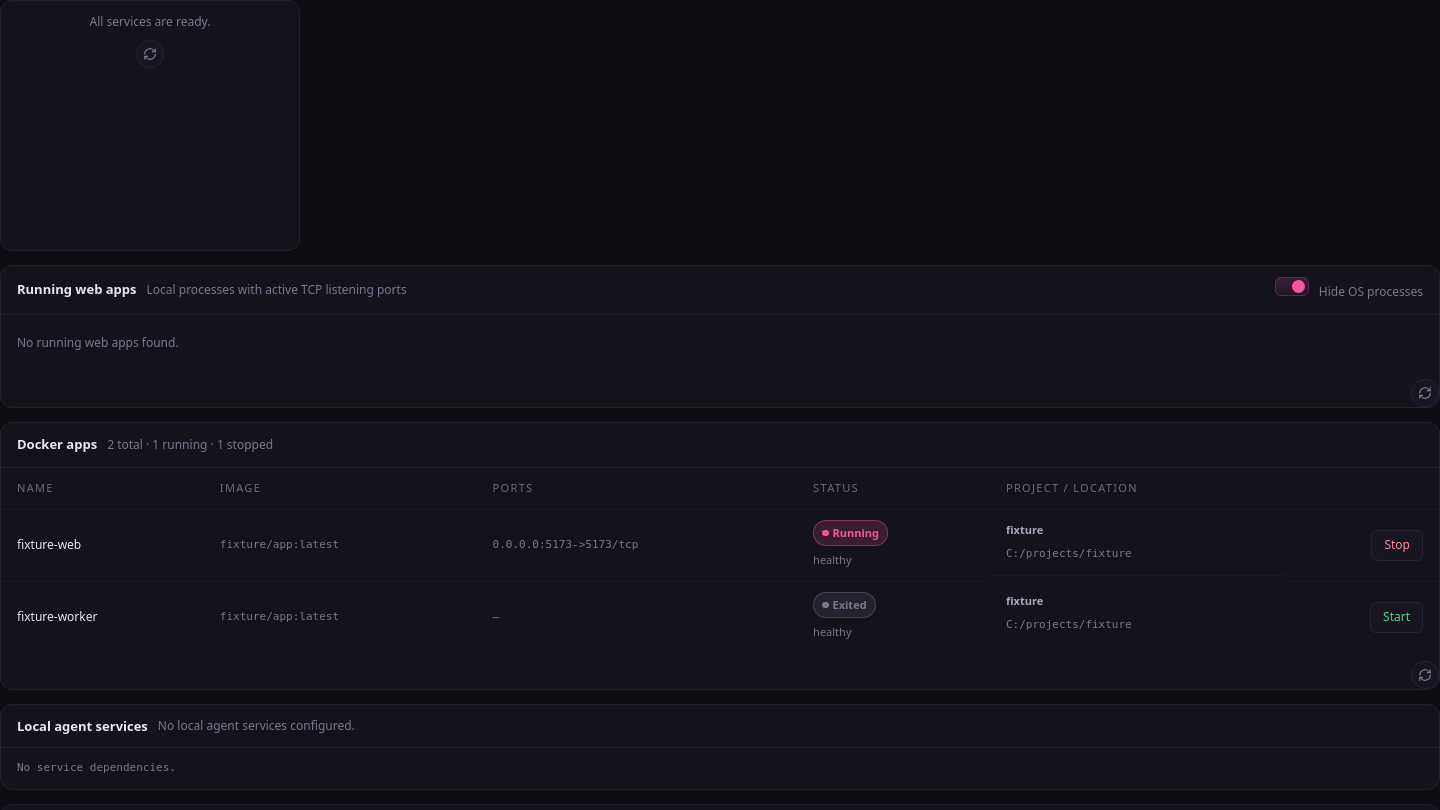
Test case: MCP and service workflows › shows Docker containers in every state and prepares the matching lifecycle action
Expected: the text "fixture-web" is shown, [1,510,204,581]
Expected: the text "fixture-worker" is shown, [1,581,204,653]
Click the button with aria-label "Stop Docker container fixture-web" at (1397, 545), box [1371,530,1423,561]
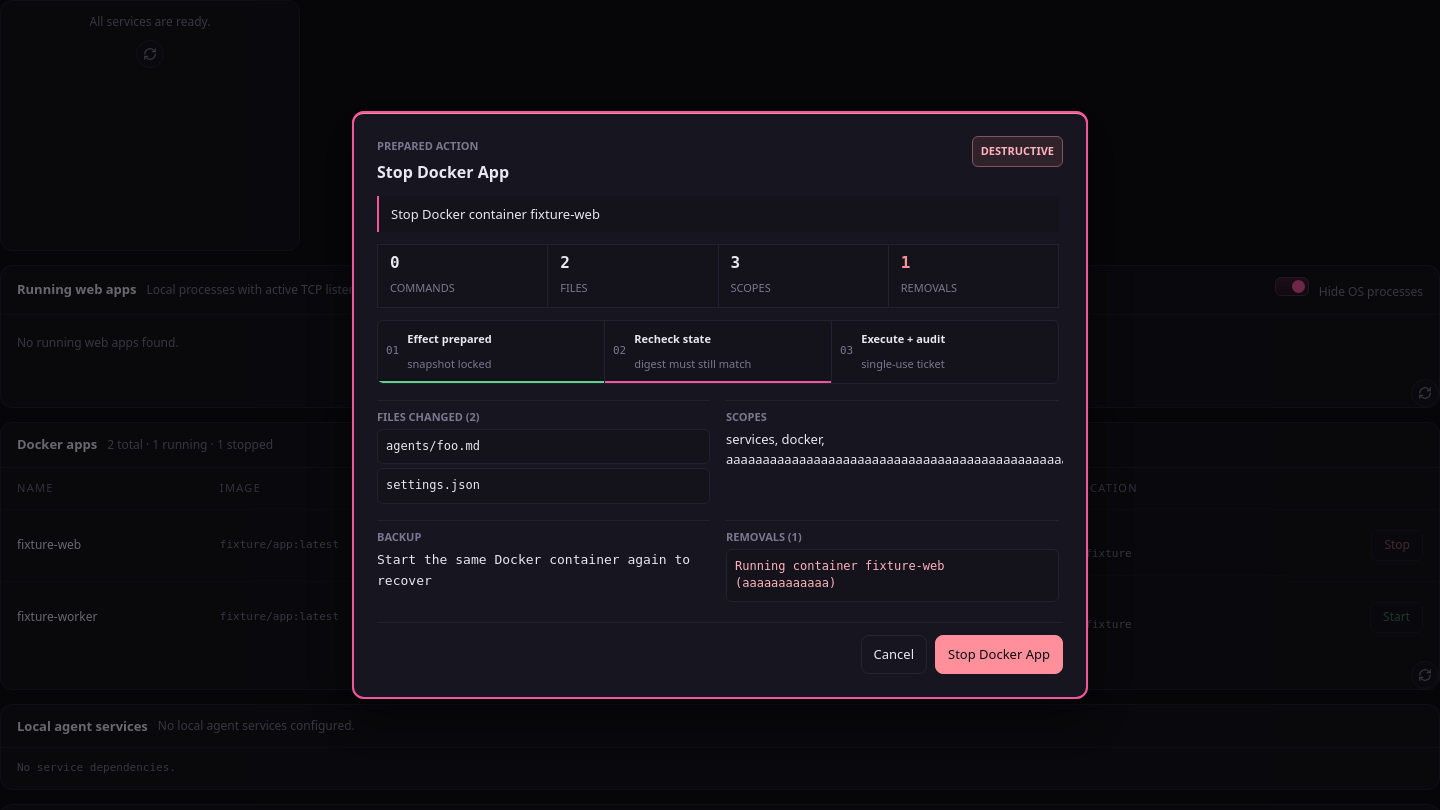
Result: the dialog "Stop Docker App" is shown at [352,111,1088,699]
